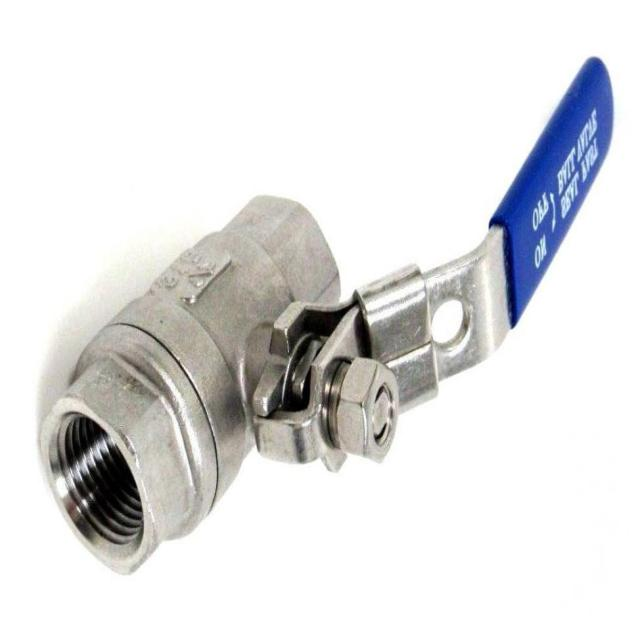opened_valve: (36, 51, 616, 578)
